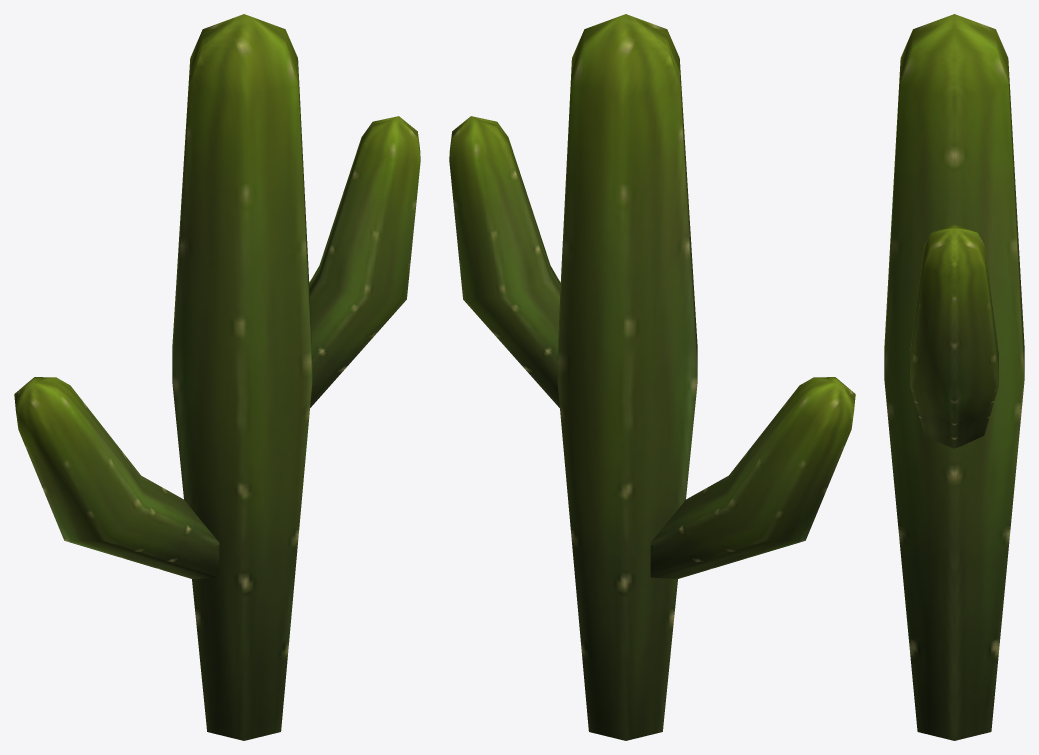
File: cactus_1.FBX
3 renders of one model, left to right at view 1: azimuth 30°, elevation 25°; view 2: azimuth 150°, elevation 25°; view 3: azimuth 270°, elevation 25°, orthographic.
Parts seen in each view (by area): view 1: cactus_1; view 2: cactus_1; view 3: cactus_1.
Part boxes in pixels (x1,y1,x2,y2): cactus_1: (14, 14, 420, 740); cactus_1: (449, 14, 855, 740); cactus_1: (884, 14, 1024, 740).
Bounding box in the file's own units: 40.53 × 67.92 × 12.17.
